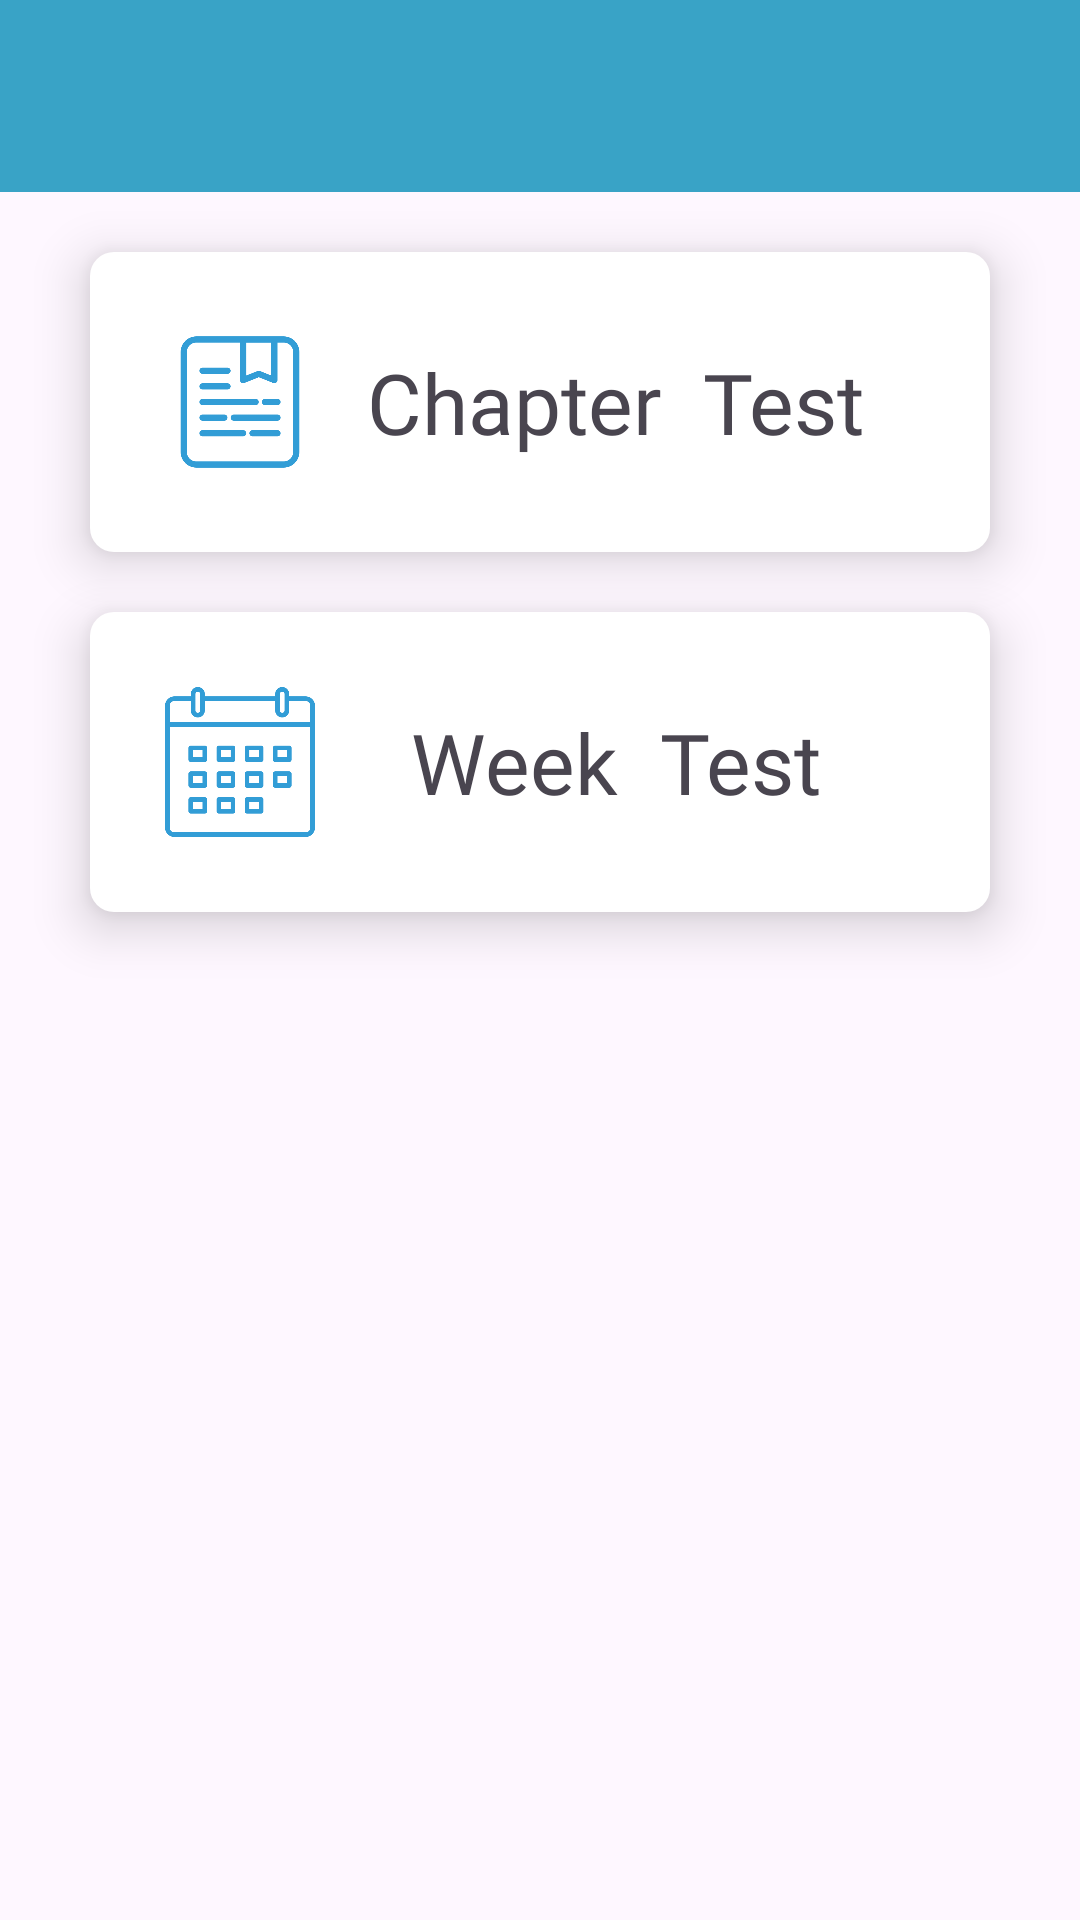

Icons on this 1080*1920 Android screen, each with the point to tap as (x=x, y=y):
bookmark: (x=240, y=402)
calendar: (x=240, y=762)
